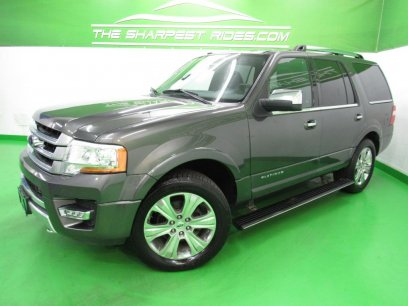Ford Explorer: (16, 45, 399, 274)
